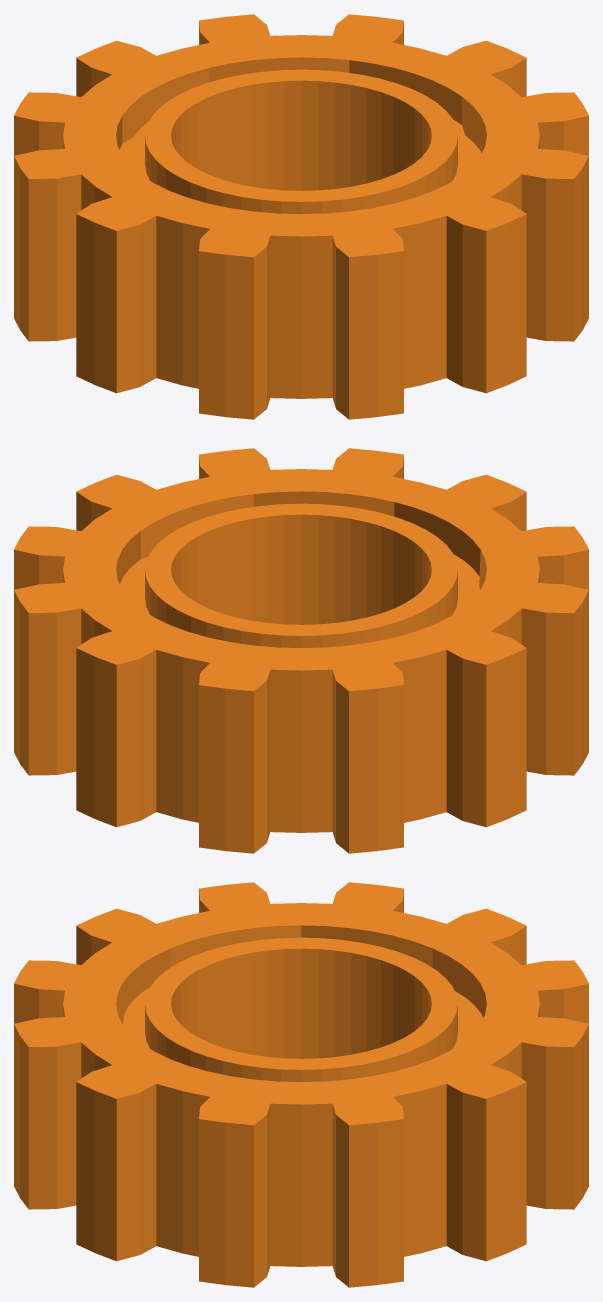
File: cogwheel_small1.fbx
3 renders of one model, top to bottom at view 1: azimuth 30°, elevation 25°; view 2: azimuth 150°, elevation 25°; view 3: azimuth 270°, elevation 25°, orthographic.
Visible parts, largest first — view 1: Gear.001; view 2: Gear.001; view 3: Gear.001.
Part boxes in pixels (left/top/right/bottom): Gear.001: left=14, top=14, right=588, bottom=419; Gear.001: left=14, top=448, right=588, bottom=853; Gear.001: left=14, top=882, right=588, bottom=1287.
Size of the model in its own units: 128 by 40 by 128.
Materials: 1 (1 with a texture image).
